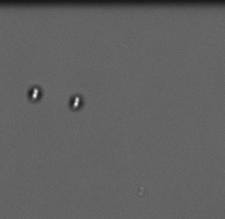Living Cell: (26, 84, 43, 102), (66, 93, 84, 110)
